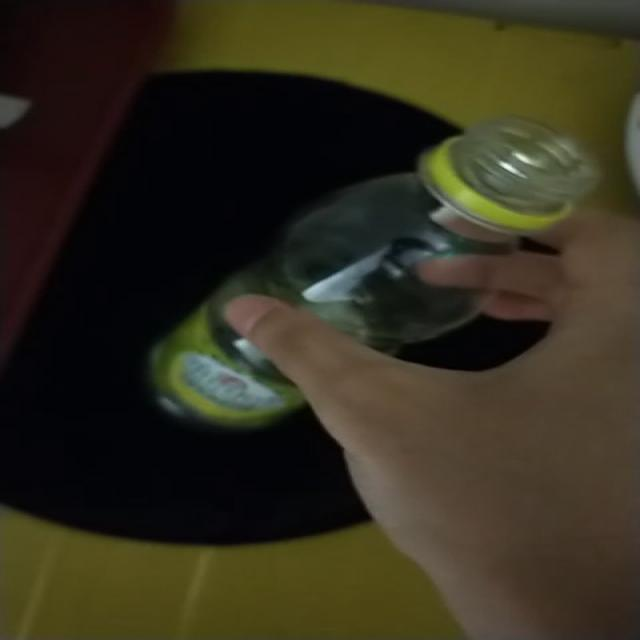plastic: (149, 116, 601, 430)
